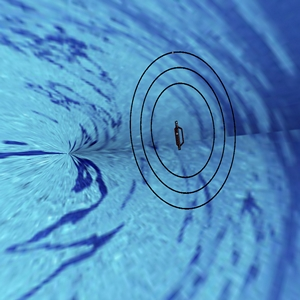circle: (114, 23, 244, 214)
submarine: (165, 120, 192, 160)
